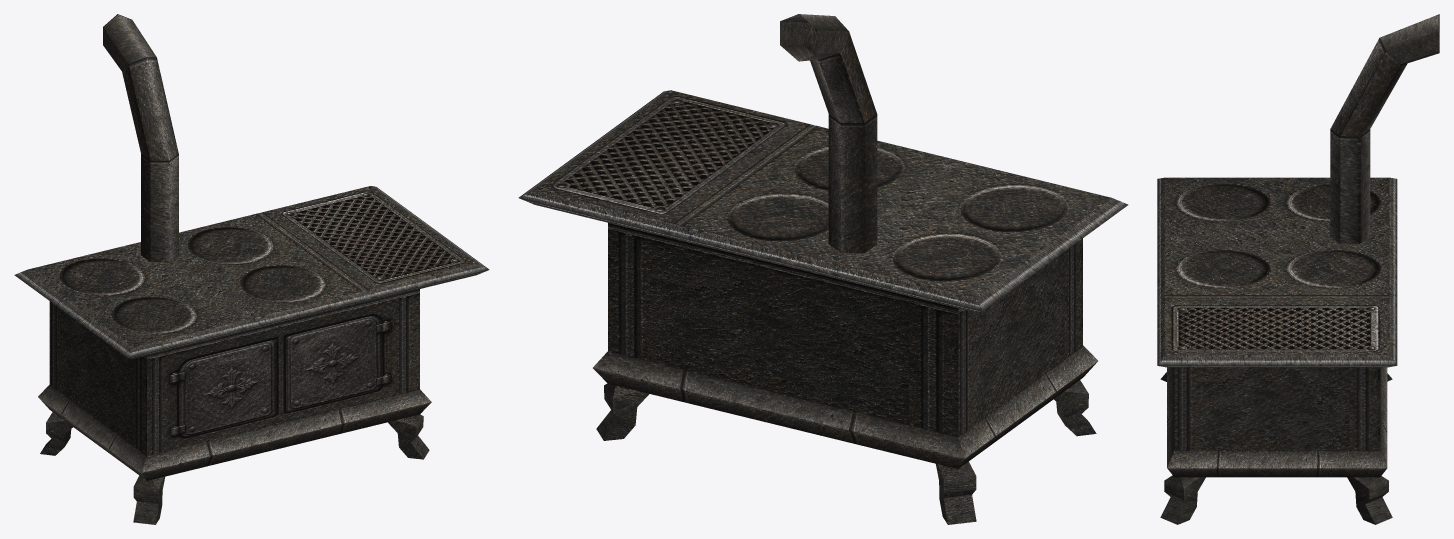
Rendered from mm9_deco_stove.glb.
The picture shows the model from 3 angles, left to right: view 1: azimuth 30°, elevation 25°; view 2: azimuth 150°, elevation 25°; view 3: azimuth 270°, elevation 25°; orthographic projection. The views are drawn at different scales.
Visible parts, largest first — view 1: Stove; view 2: Stove; view 3: Stove.
Boxes of the visible parts, x1,y1,x2,y2 form: Stove: (14, 14, 489, 524); Stove: (518, 14, 1128, 524); Stove: (1157, 14, 1439, 524).
Bounding box in the file's own units: 2.82 × 2.92 × 1.8.
2 materials, 2 textured.
